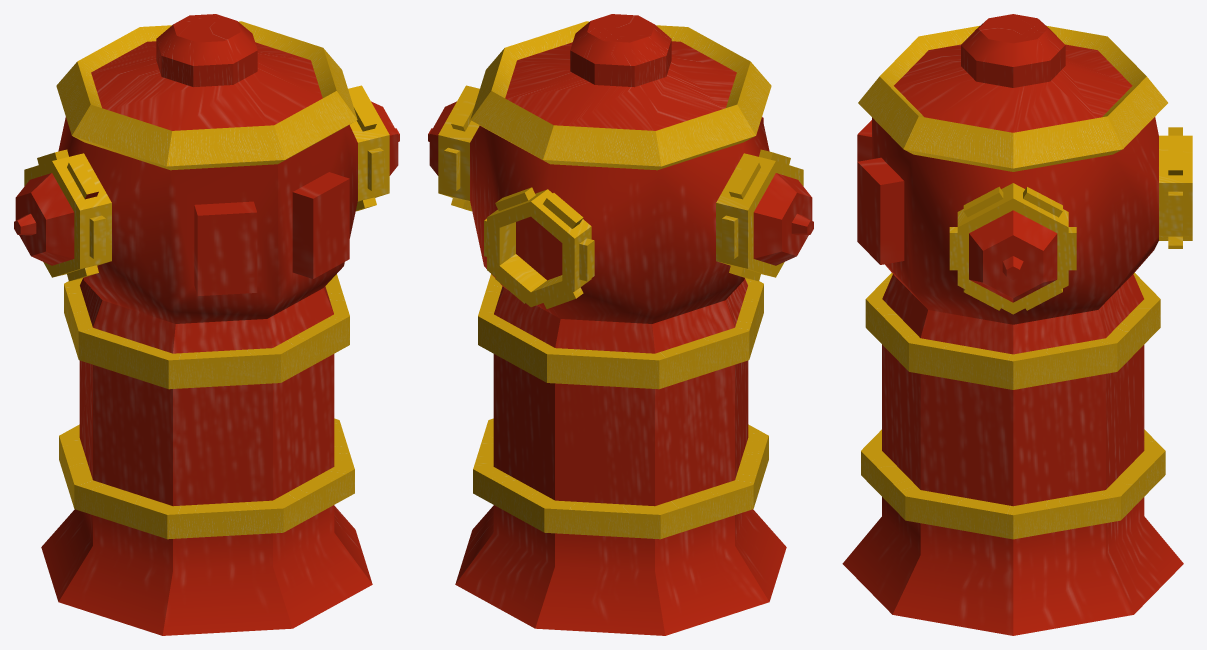
Rendered from Boca_incendios.fbx.
3 views of the same model, side by side, from view 1: azimuth 30°, elevation 25°; view 2: azimuth 150°, elevation 25°; view 3: azimuth 270°, elevation 25° (orthographic).
Visible parts, largest first — view 1: Boca_incendios; view 2: Boca_incendios; view 3: Boca_incendios.
Part boxes in pixels (x1,y1,x2,y2): Boca_incendios: (14, 14, 399, 635); Boca_incendios: (428, 14, 813, 635); Boca_incendios: (842, 14, 1192, 635).
Bounding box in the file's own units: 76.22 × 103 × 61.24.
